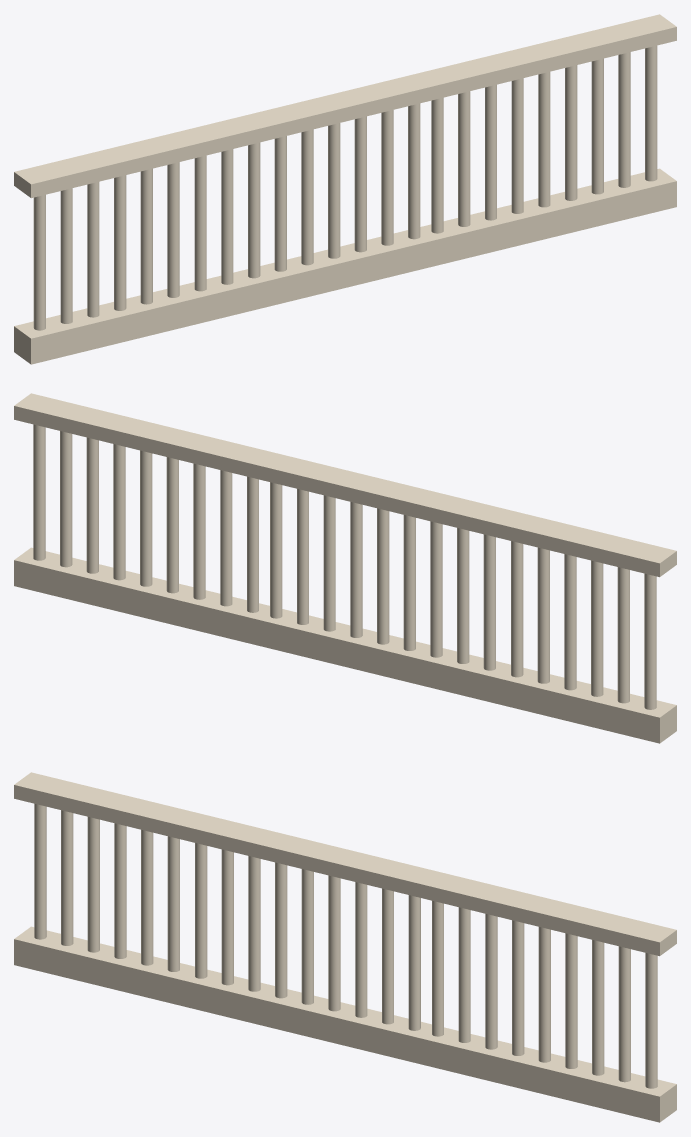
Rendered from SM_fence.glb.
The picture shows the model from 3 angles, top to bottom: view 1: azimuth 30°, elevation 25°; view 2: azimuth 150°, elevation 25°; view 3: azimuth 330°, elevation 25°; orthographic projection.
Visible parts, largest first — view 1: SM_fence; view 2: SM_fence; view 3: SM_fence.
Boxes of the visible parts, left/top/right/bottom form: SM_fence: left=14, top=14, right=676, bottom=364; SM_fence: left=14, top=393, right=676, bottom=743; SM_fence: left=14, top=772, right=676, bottom=1122.
Size of the model in its own units: 3 by 0.8 by 0.1381.
